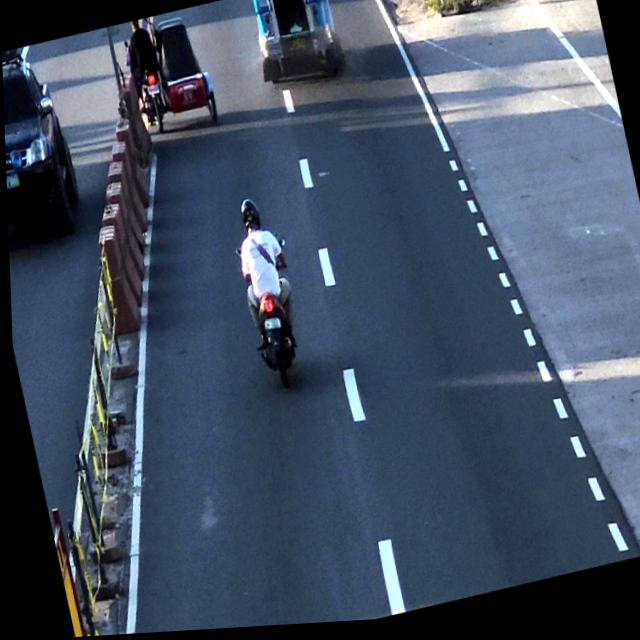Jeep: (239, 0, 353, 88)
License-Plate: (259, 318, 280, 337), (146, 83, 161, 98)
Motorcycle: (221, 197, 310, 400)
Tricycle: (108, 7, 222, 143)
